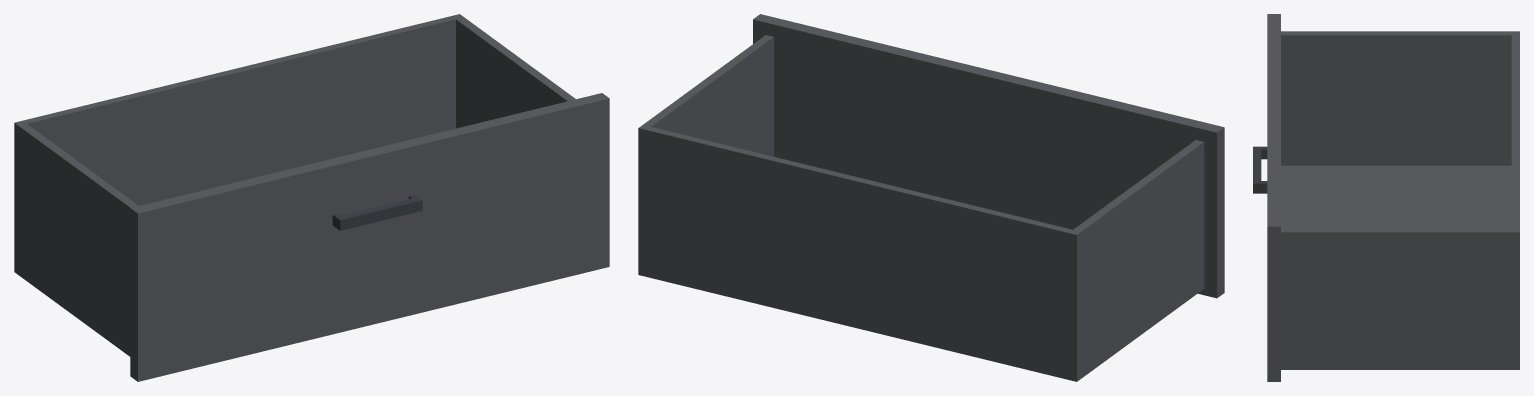
File: BathroomDoor_C3_08.fbx
3 views of the same model, side by side, from view 1: azimuth 30°, elevation 25°; view 2: azimuth 150°, elevation 25°; view 3: azimuth 270°, elevation 25° (orthographic). The views are drawn at different scales.
Visible parts, largest first — view 1: BathroomDoor_C3_08; view 2: BathroomDoor_C3_08; view 3: BathroomDoor_C3_08.
Part boxes in pixels (x1,y1,x2,y2): BathroomDoor_C3_08: (14,14,609,381); BathroomDoor_C3_08: (638,14,1224,381); BathroomDoor_C3_08: (1253,14,1519,381).
Bounding box in the file's own units: 90 × 30.7 × 47.76.
